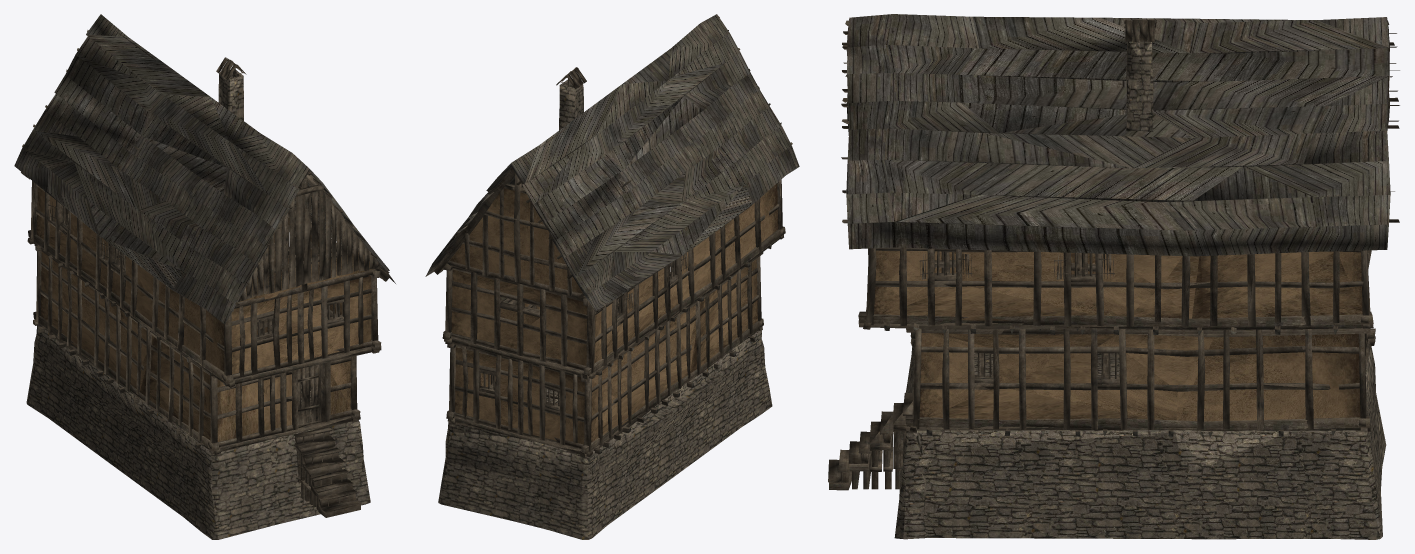
The model's file is eng_house_4.glb.
The picture shows the model from 3 angles, left to right: view 1: azimuth 30°, elevation 25°; view 2: azimuth 150°, elevation 25°; view 3: azimuth 270°, elevation 25°; orthographic projection. The views are drawn at different scales.
Visible parts, largest first — view 1: eng_house_4; view 2: eng_house_4; view 3: eng_house_4.
Part boxes in pixels (x1,y1,x2,y2): eng_house_4: (14,14,395,539); eng_house_4: (425,14,799,539); eng_house_4: (828,14,1399,539).
Size of the model in its own units: 6.95 by 14.41 by 15.17.
Materials: 6 (6 with a texture image).
